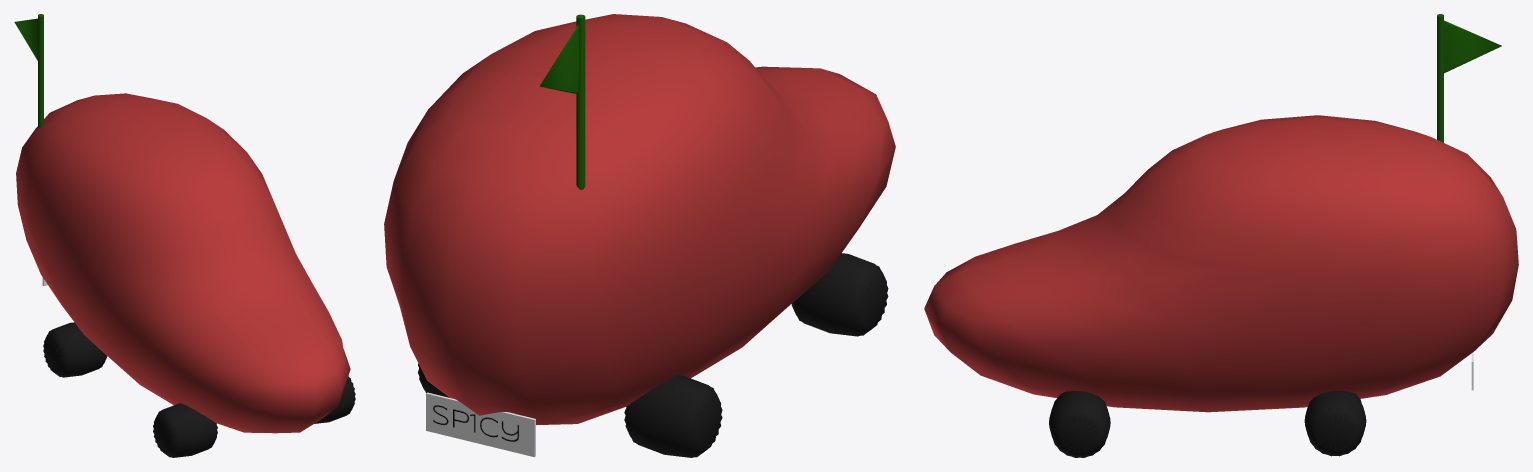
The model's file is bean car with animation.fbx.
3 views of the same model, side by side, from view 1: azimuth 30°, elevation 25°; view 2: azimuth 150°, elevation 25°; view 3: azimuth 270°, elevation 25° (orthographic). The views are drawn at different scales.
Parts seen in each view (by area): view 1: pCube3, pCylinder2, pCylinder1, pCylinder5, pCylinder3, pCone1; view 2: pCube3, pCylinder1, pCylinder2, pCube4, pCylinder5, pCone1; view 3: pCube3, pCylinder3, pCylinder4, pCone1, pCylinder5.
Part boxes in pixels (x1=…): pCube3: x1=16, y1=93, x2=350, y2=433; pCylinder2: x1=153, y1=403, x2=217, y2=457; pCylinder1: x1=43, y1=322, x2=107, y2=377; pCylinder5: x1=38, y1=14, x2=43, y2=128; pCylinder3: x1=314, y1=376, x2=355, y2=423; pCone1: x1=14, y1=18, x2=37, y2=60; pCube3: x1=384, y1=14, x2=895, y2=425; pCylinder1: x1=624, y1=375, x2=722, y2=457; pCylinder2: x1=791, y1=253, x2=888, y2=336; pCube4: x1=426, y1=392, x2=535, y2=457; pCylinder5: x1=576, y1=14, x2=585, y2=189; pCone1: x1=539, y1=25, x2=578, y2=94; pCube3: x1=924, y1=115, x2=1518, y2=412; pCylinder3: x1=1049, y1=390, x2=1110, y2=457; pCylinder4: x1=1304, y1=390, x2=1366, y2=456; pCone1: x1=1443, y1=20, x2=1501, y2=73; pCylinder5: x1=1437, y1=14, x2=1443, y2=142.
Bounding box in the file's own units: 8.05 × 12.93 × 19.05.
4 materials, 1 textured.
